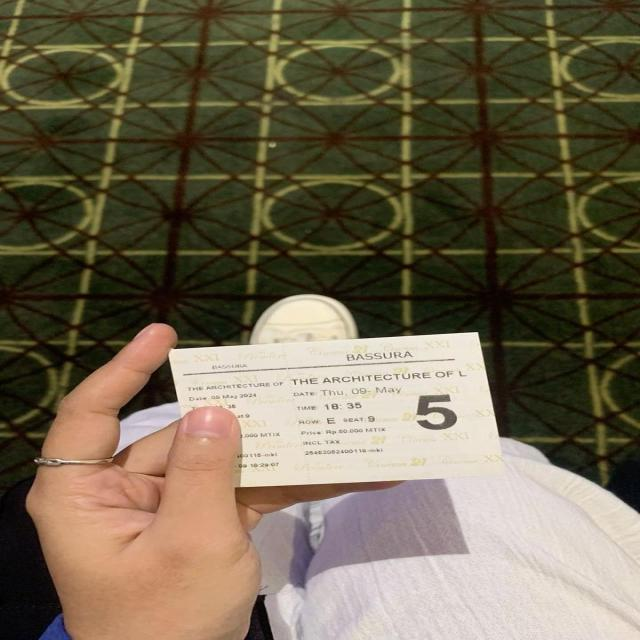date: (187, 392, 266, 402)
store: (336, 352, 414, 362)
total: (298, 427, 404, 437)
